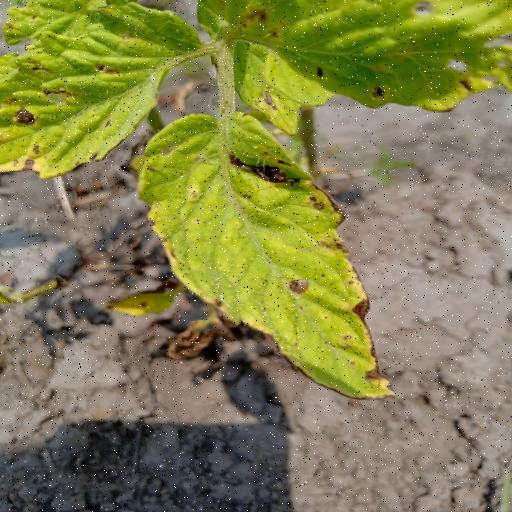Tomato_Brown_Spots: (127, 109, 407, 408)
